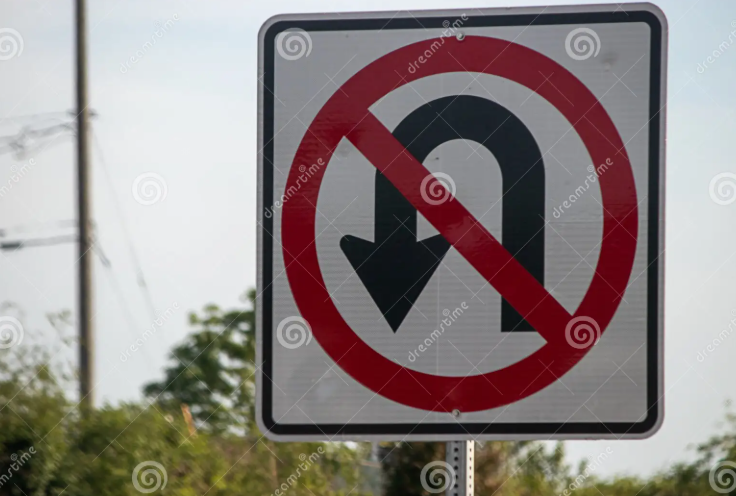No U Turn: (277, 35, 641, 415)
